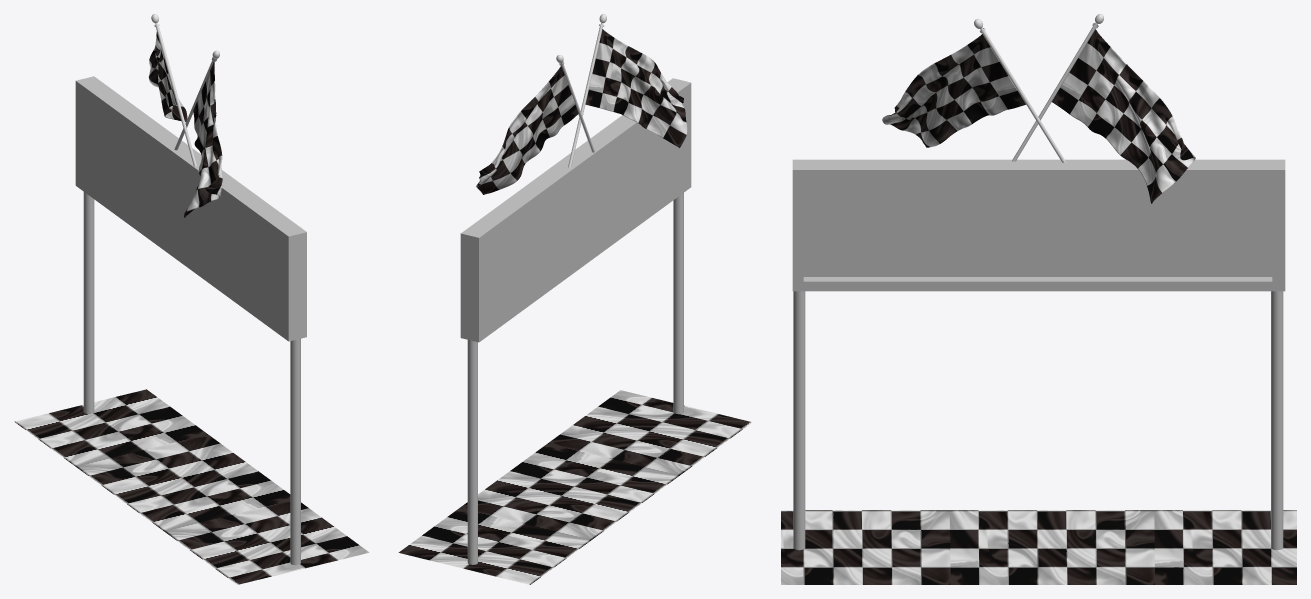
The model's file is Finish.fbx.
The picture shows the model from 3 angles, left to right: view 1: azimuth 30°, elevation 25°; view 2: azimuth 150°, elevation 25°; view 3: azimuth 270°, elevation 25°; orthographic projection. The views are drawn at different scales.
Parts seen in each view (by area): view 1: Plane, Cube.002, Juventus - FC.001, Cylinder.001, Cube.001, Cylinder, Juventus - FC, Stick; view 2: Plane, Cube.002, Juventus - FC.001, Juventus - FC, Cube.001, Cylinder.001, Cylinder, Stick.001; view 3: Cube, Plane, Cube.001, Juventus - FC, Juventus - FC.001, Cylinder.001, Cylinder, Cube.002, Stick.001, Stick.
Boxes of the visible parts, x1,y1,x2,y2 form: Plane: (14,389,369,584); Cube.002: (75,78,298,341); Juventus - FC.001: (184,62,222,217); Cylinder.001: (83,192,94,413); Cube.001: (86,76,306,338); Cylinder: (290,338,300,565); Juventus - FC: (148,32,187,121); Stick: (151,14,196,166); Plane: (398,390,751,584); Cube.002: (469,80,691,342); Juventus - FC.001: (585,29,687,147); Juventus - FC: (476,66,578,194); Cube.001: (460,78,680,339); Cylinder.001: (467,340,477,564); Cylinder: (673,193,683,414); Stick.001: (568,14,606,167); Cube: (803,180,1272,276); Plane: (781,510,1296,584); Cube.001: (792,165,1285,291); Juventus - FC: (1052,29,1195,203); Juventus - FC.001: (882,34,1025,147); Cylinder.001: (1271,291,1283,550); Cylinder: (793,291,805,550); Cube.002: (792,159,1285,165); Stick.001: (974,19,1065,162); Stick: (1012,14,1103,161).
Bounding box in the file's own units: 551 × 1811 × 1606.
